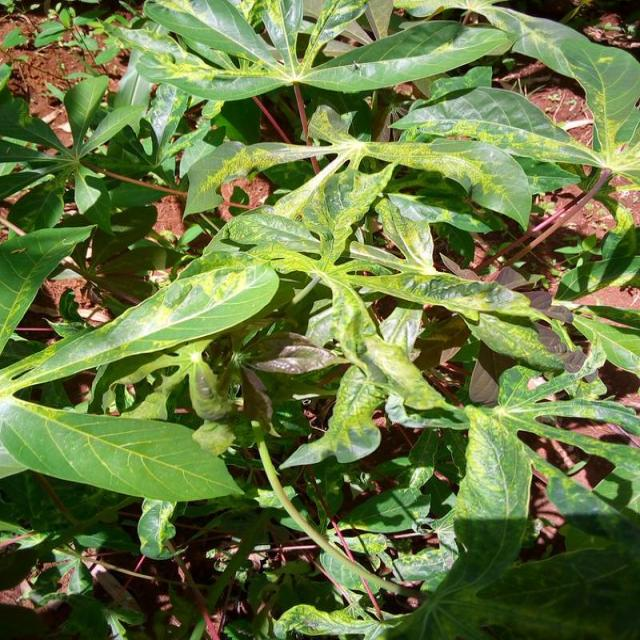Mosaico: (219, 125, 579, 331), (168, 185, 525, 381), (376, 412, 640, 627), (124, 0, 482, 98), (534, 35, 640, 243)
